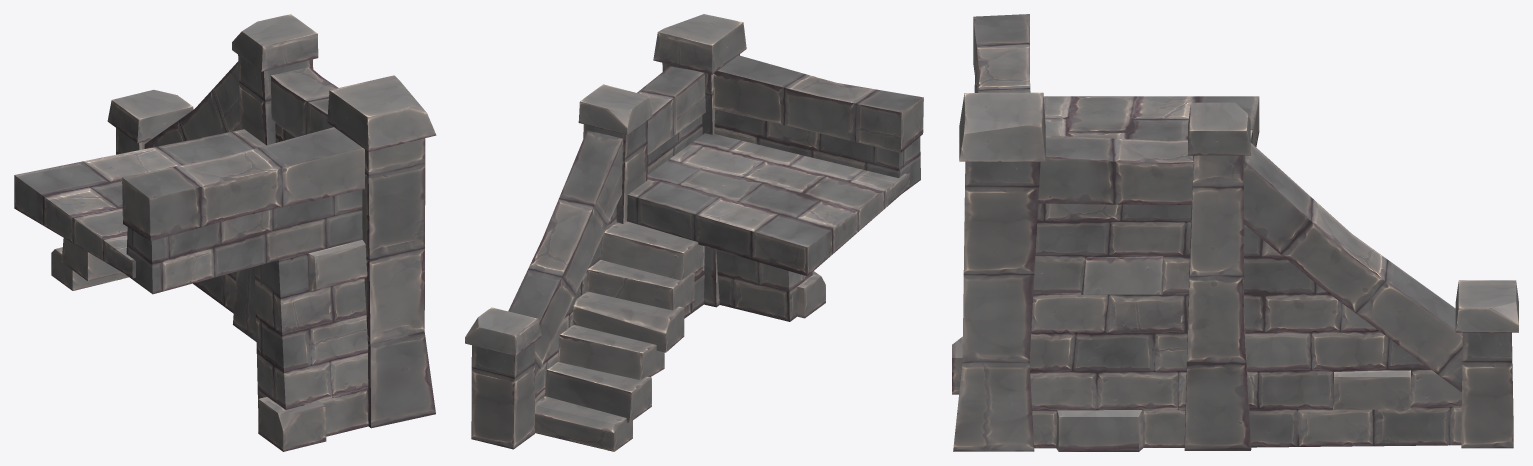
File: SM_BLD_stairs_v03_v1.fbx
3 views of the same model, side by side, from view 1: azimuth 30°, elevation 25°; view 2: azimuth 150°, elevation 25°; view 3: azimuth 270°, elevation 25° (orthographic). The views are drawn at different scales.
Visible parts, largest first — view 1: SM_BLD_stairs_v03_v1; view 2: SM_BLD_stairs_v03_v1; view 3: SM_BLD_stairs_v03_v1.
Part boxes in pixels (x1=…): SM_BLD_stairs_v03_v1: x1=14, y1=14, x2=436, y2=451; SM_BLD_stairs_v03_v1: x1=465, y1=14, x2=923, y2=451; SM_BLD_stairs_v03_v1: x1=952, y1=14, x2=1518, y2=451.
Size of the model in its own units: 308 by 323 by 508.
